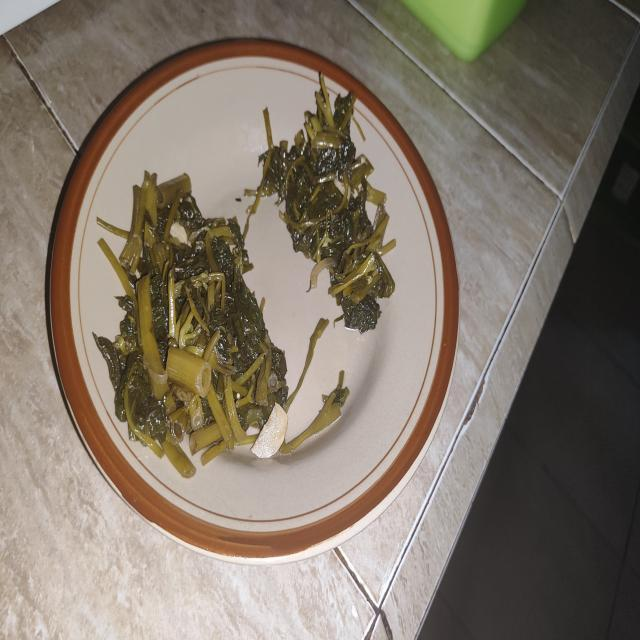tumis_kangkung: (96, 172, 292, 465), (266, 73, 396, 333)
